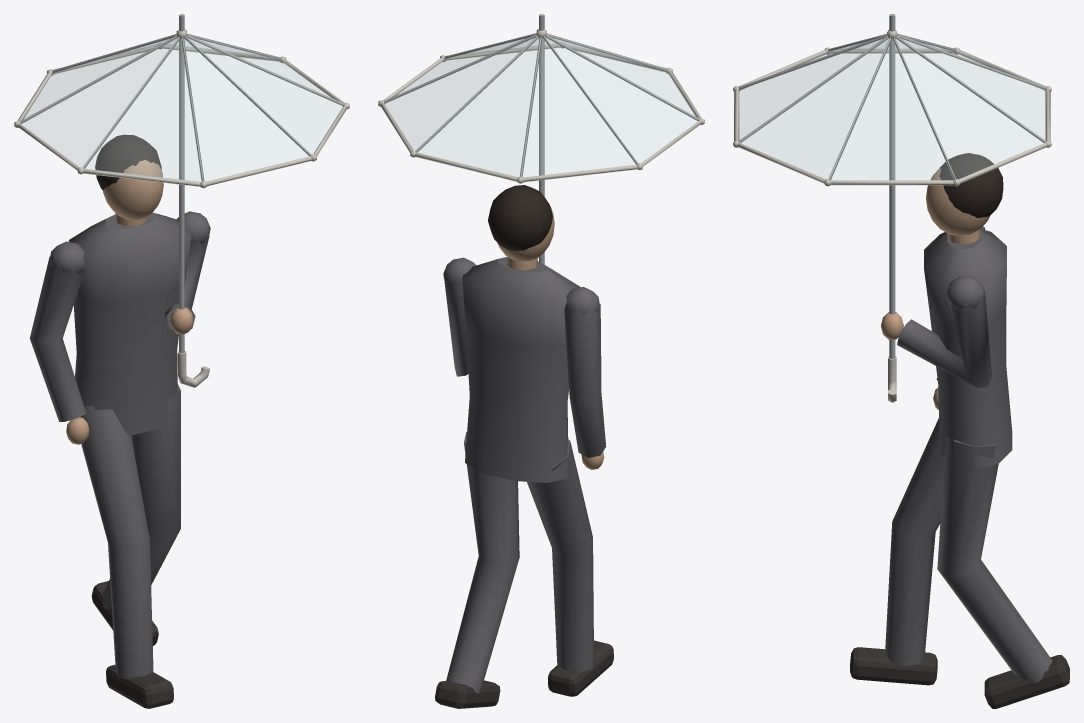
The model's file is people_umbrella_01.glb.
3 renders of one model, left to right at view 1: azimuth 30°, elevation 25°; view 2: azimuth 150°, elevation 25°; view 3: azimuth 270°, elevation 25°, orthographic. The views are drawn at different scales.
Visible parts, largest first — view 1: people_umbrella_01; view 2: people_umbrella_01; view 3: people_umbrella_01.
Part boxes in pixels (x1,y1,x2,y2): people_umbrella_01: (14, 14, 349, 708); people_umbrella_01: (378, 14, 704, 708); people_umbrella_01: (733, 14, 1069, 708).
Bounding box in the file's own units: 0.9084 × 2.16 × 0.9594.
